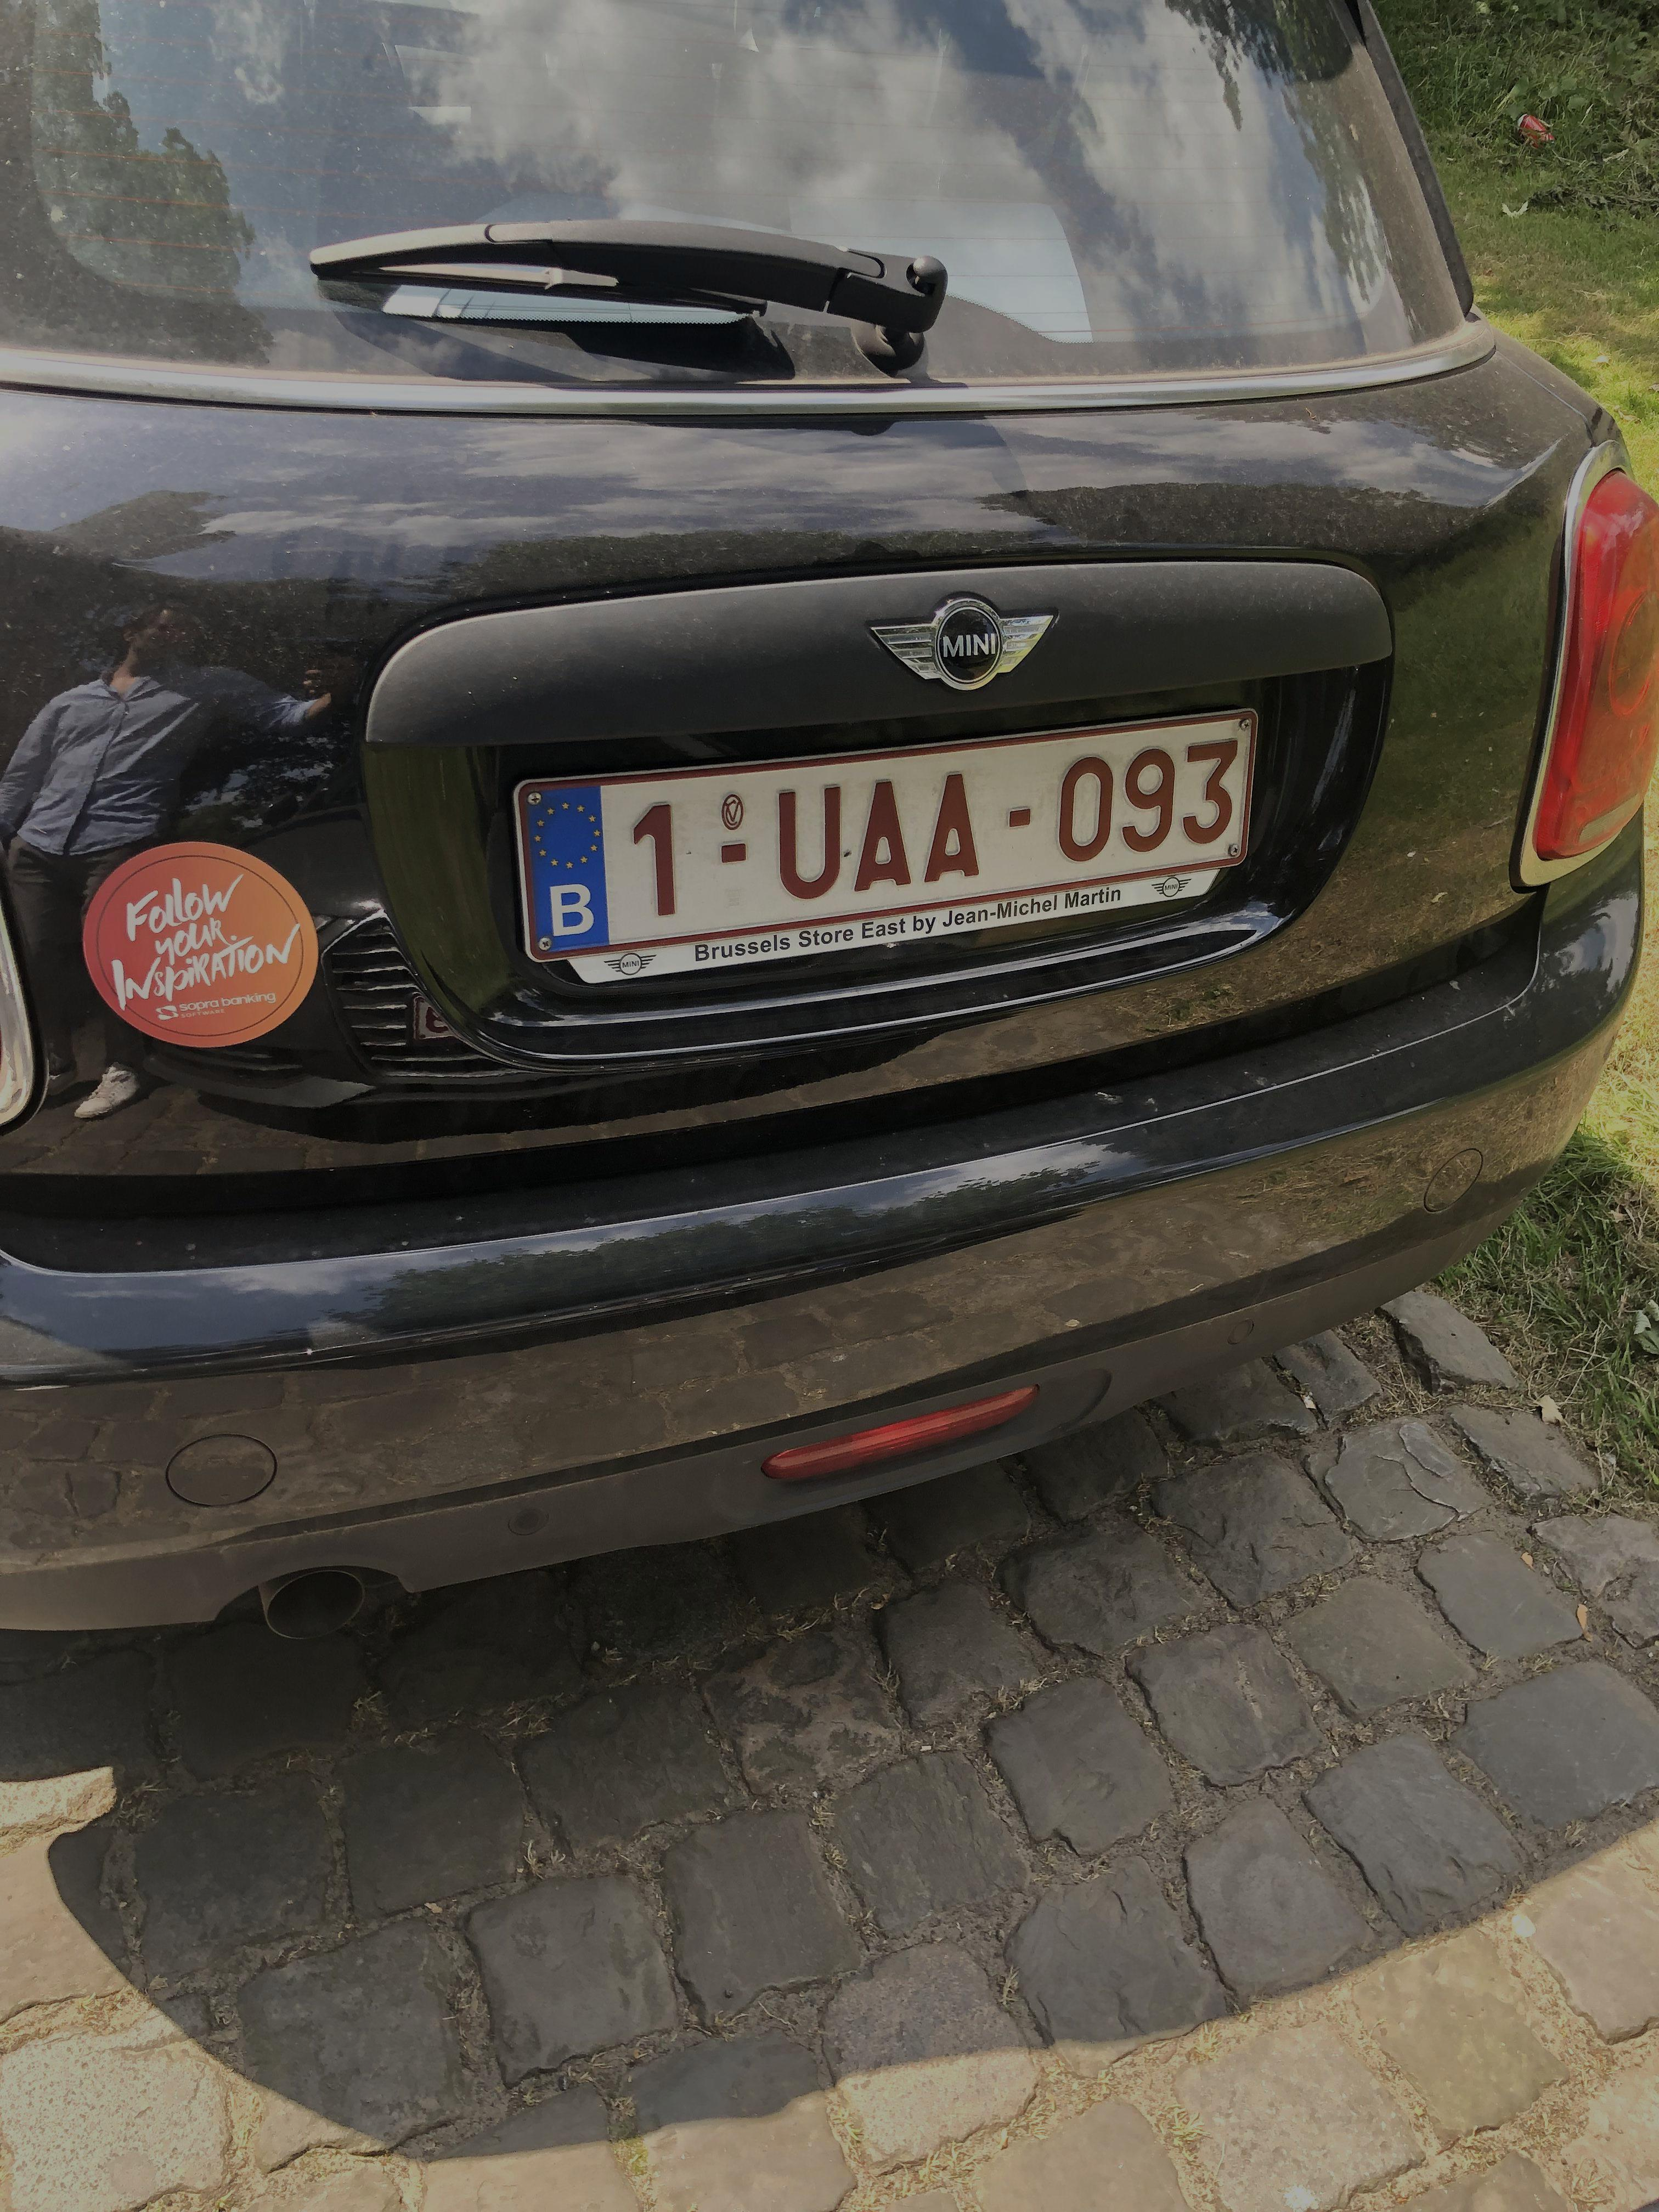plate: (500, 675, 1290, 992)
